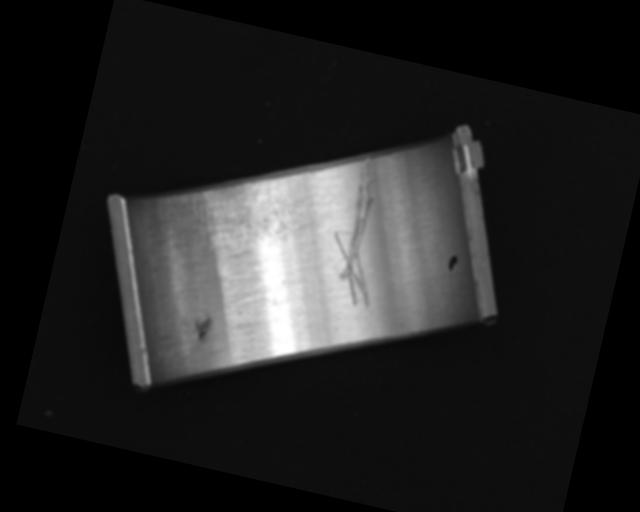blot: (446, 254, 459, 274)
bruise: (188, 312, 214, 344)
nick: (319, 152, 403, 310)
scratch: (166, 156, 309, 273)
